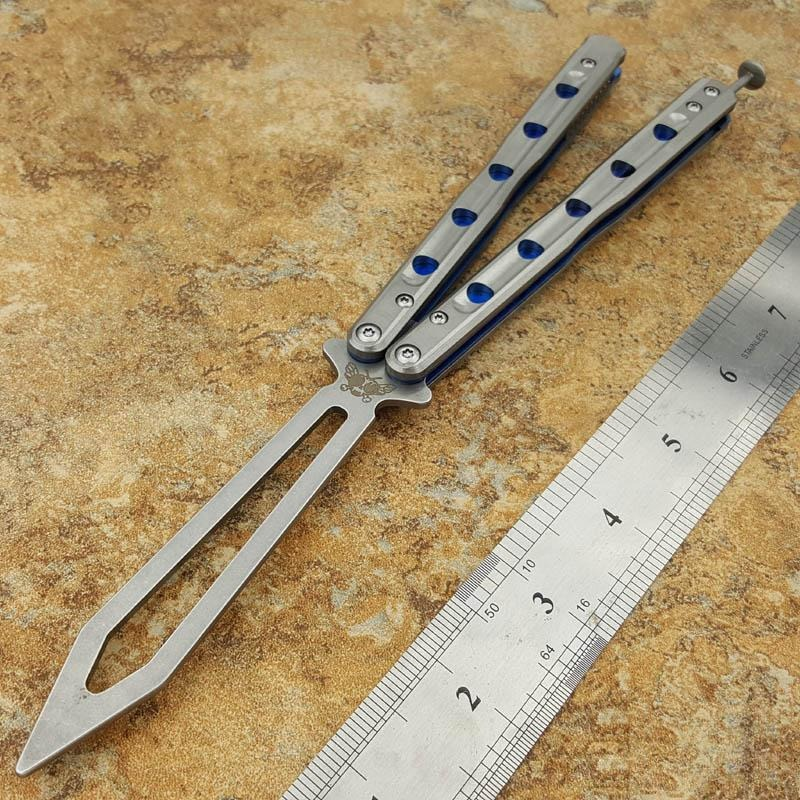knife: (14, 20, 769, 800)
